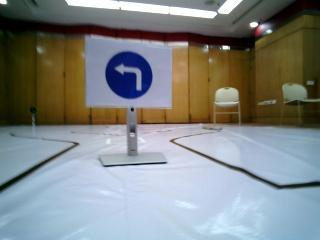left: (90, 39, 168, 100)
